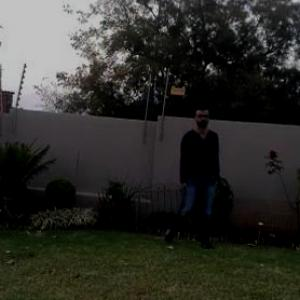follow: (162, 102, 211, 257)
